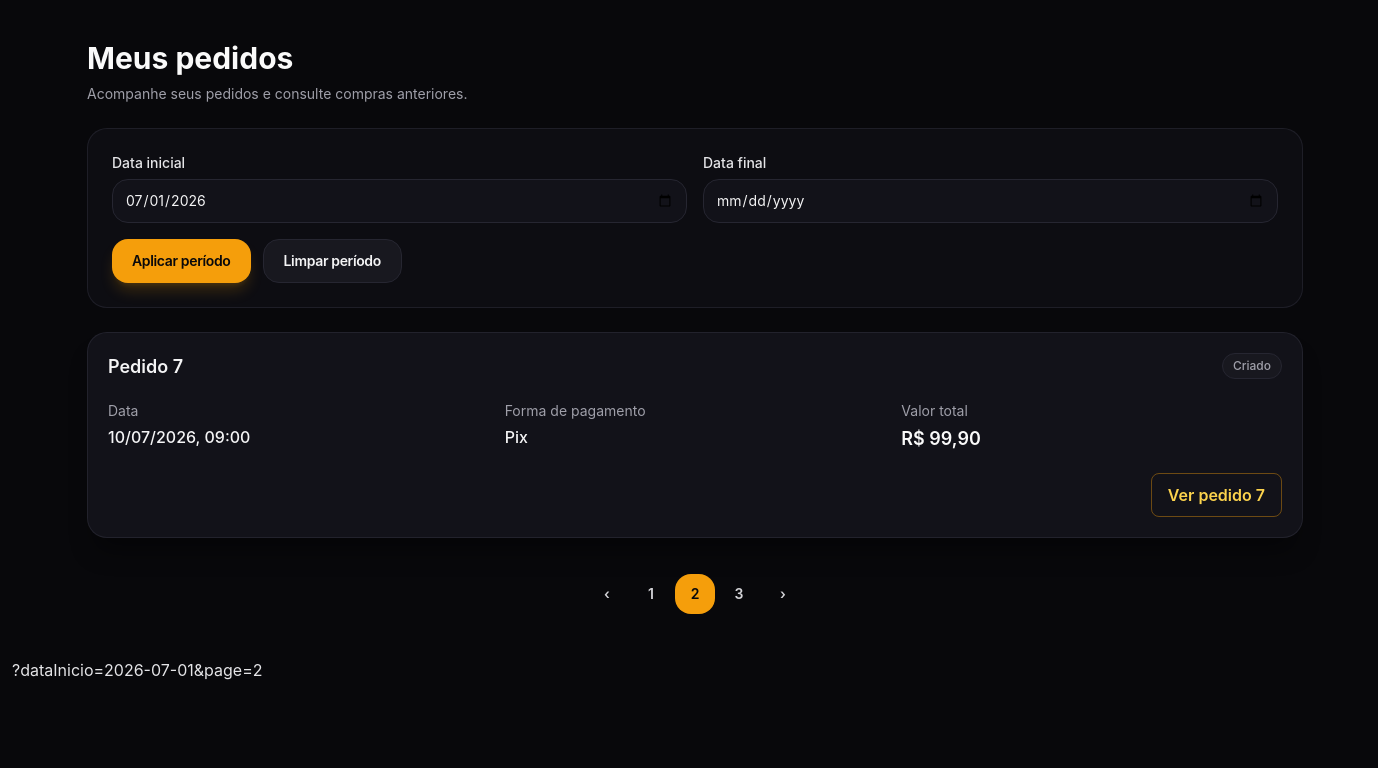
Scenario: OrdersPage › renders a successful page and changes page without a full reload
Expected: the heading "Meus pedidos" is shown, [87,40,293,76]
Expected: the navigation bar named "Paginação de pedidos" is shown, [587,574,803,614]
Click the button named "Página 3": (739,594) [719,574,759,614]
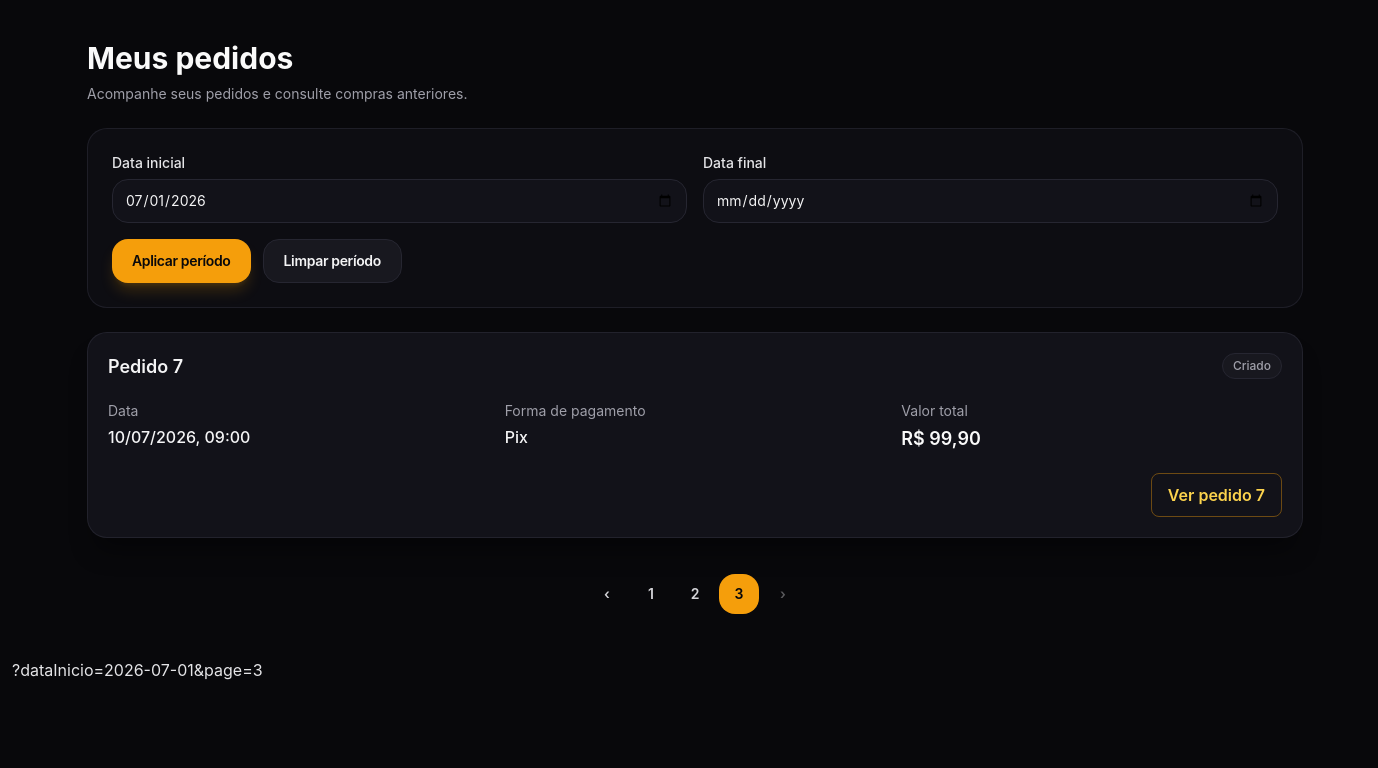
Result: the text with test id "location" reads "?dataInicio=2026-07-01&page=3" at [12,660,263,680]
